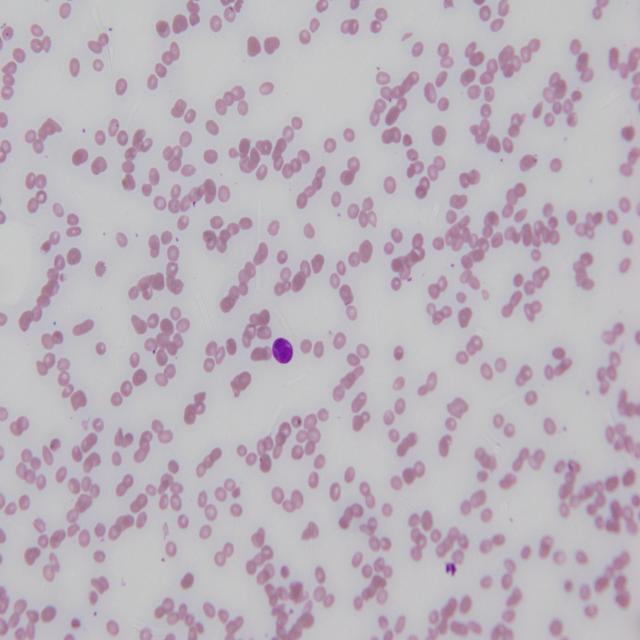cell: (272, 338, 292, 363)
